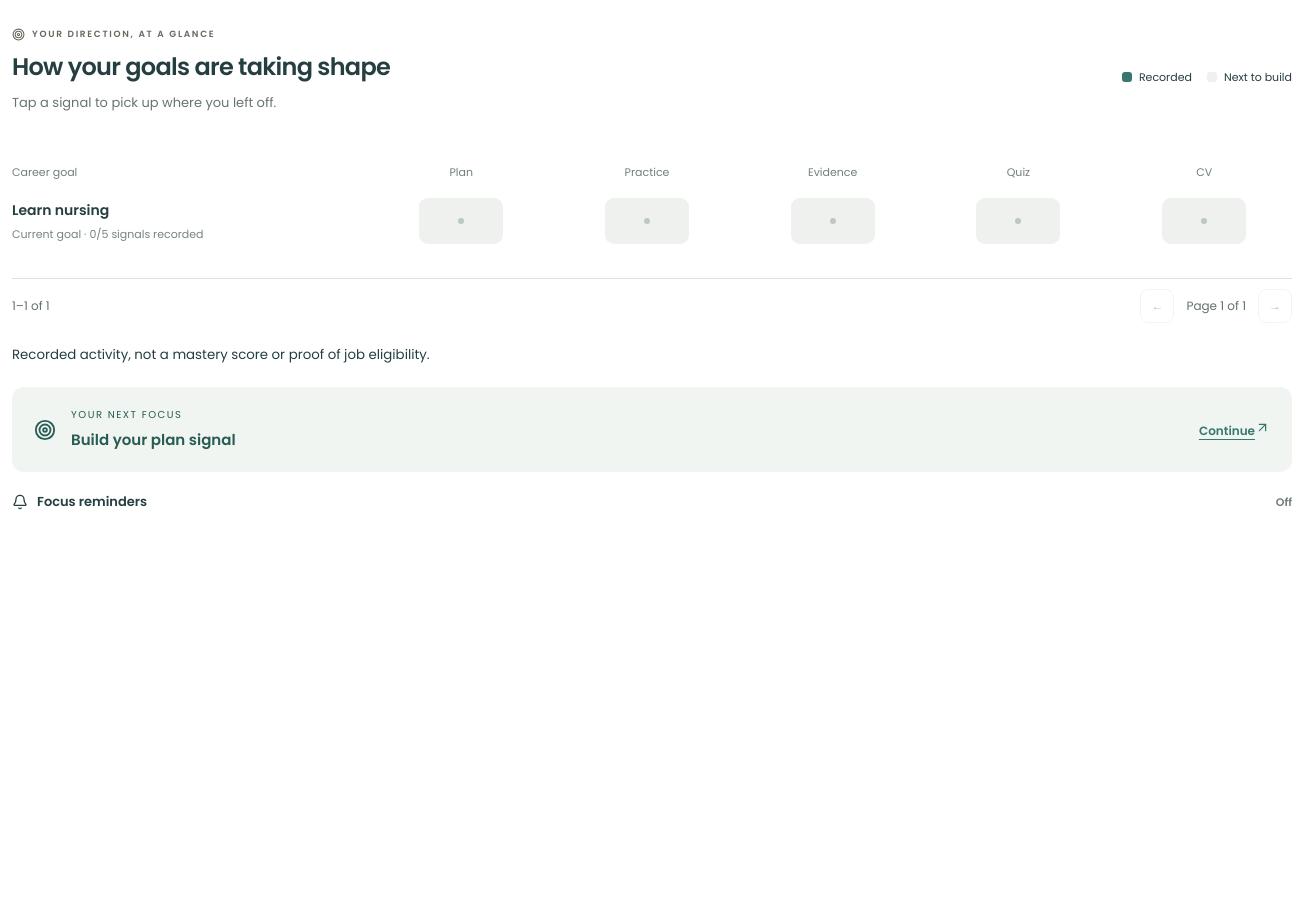
Test: heatmap switches the selected goal and saves reminder choices
Expected: the table named "Preparation signals by goal" is shown, 12,150 -> 1292,331
Click the button named "Learn nursing: Plan not yet recorded": x=461, y=221 419,198 -> 503,244
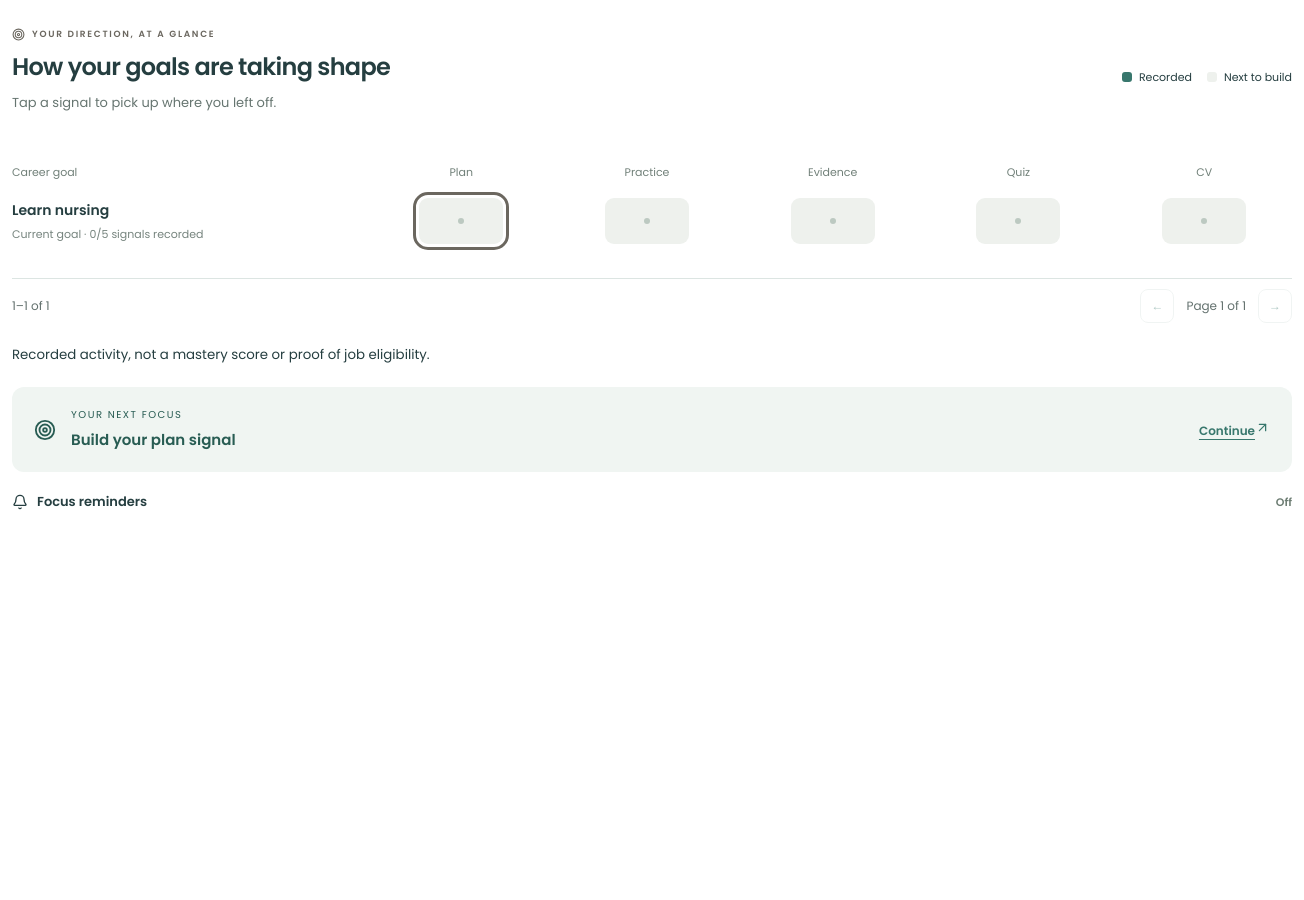
Click the heading "Focus reminders Off": x=92, y=502 12,492 -> 1292,512
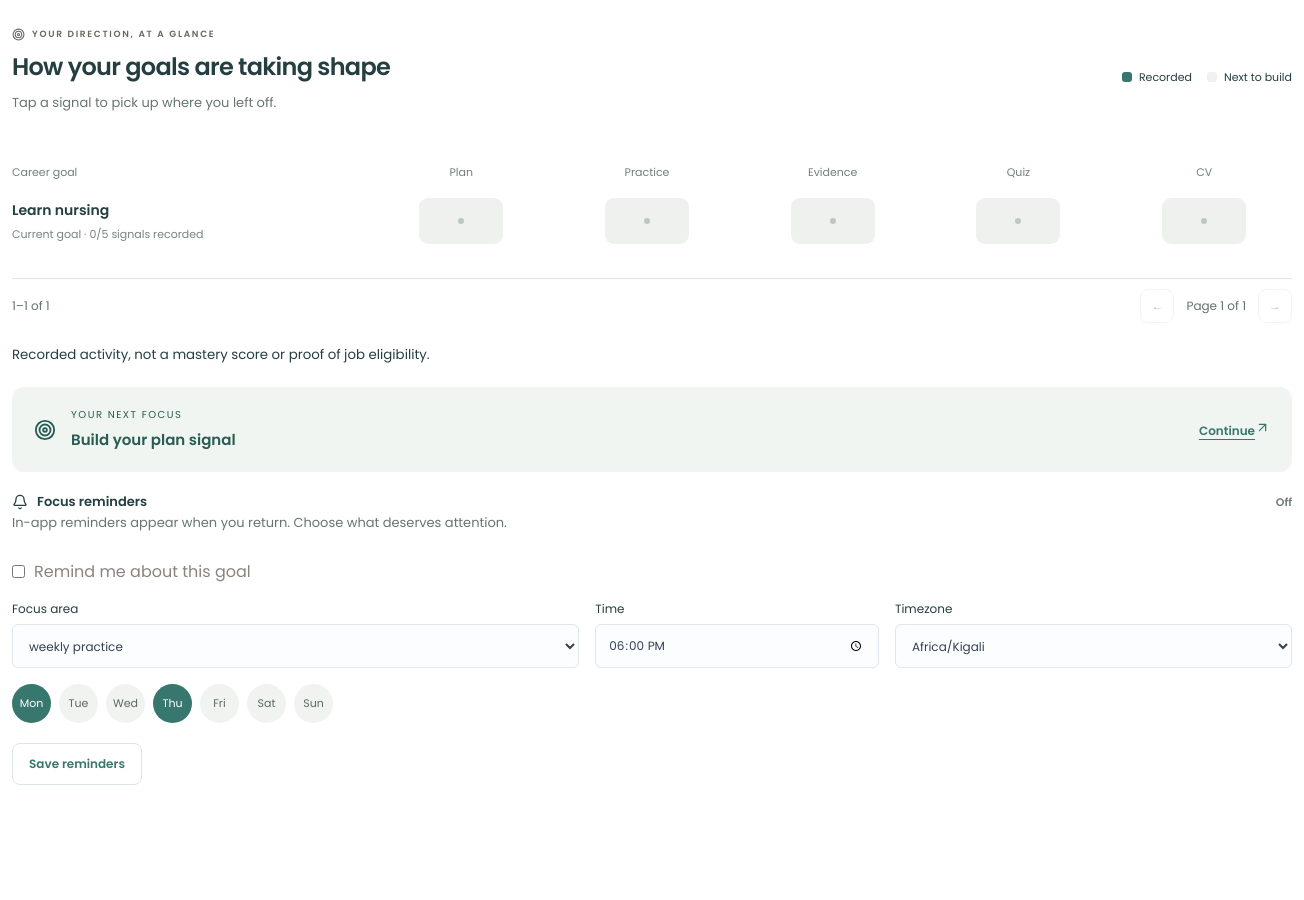
Click the checkbox labelled "Remind me about this goal": x=18, y=571 12,565 -> 25,578
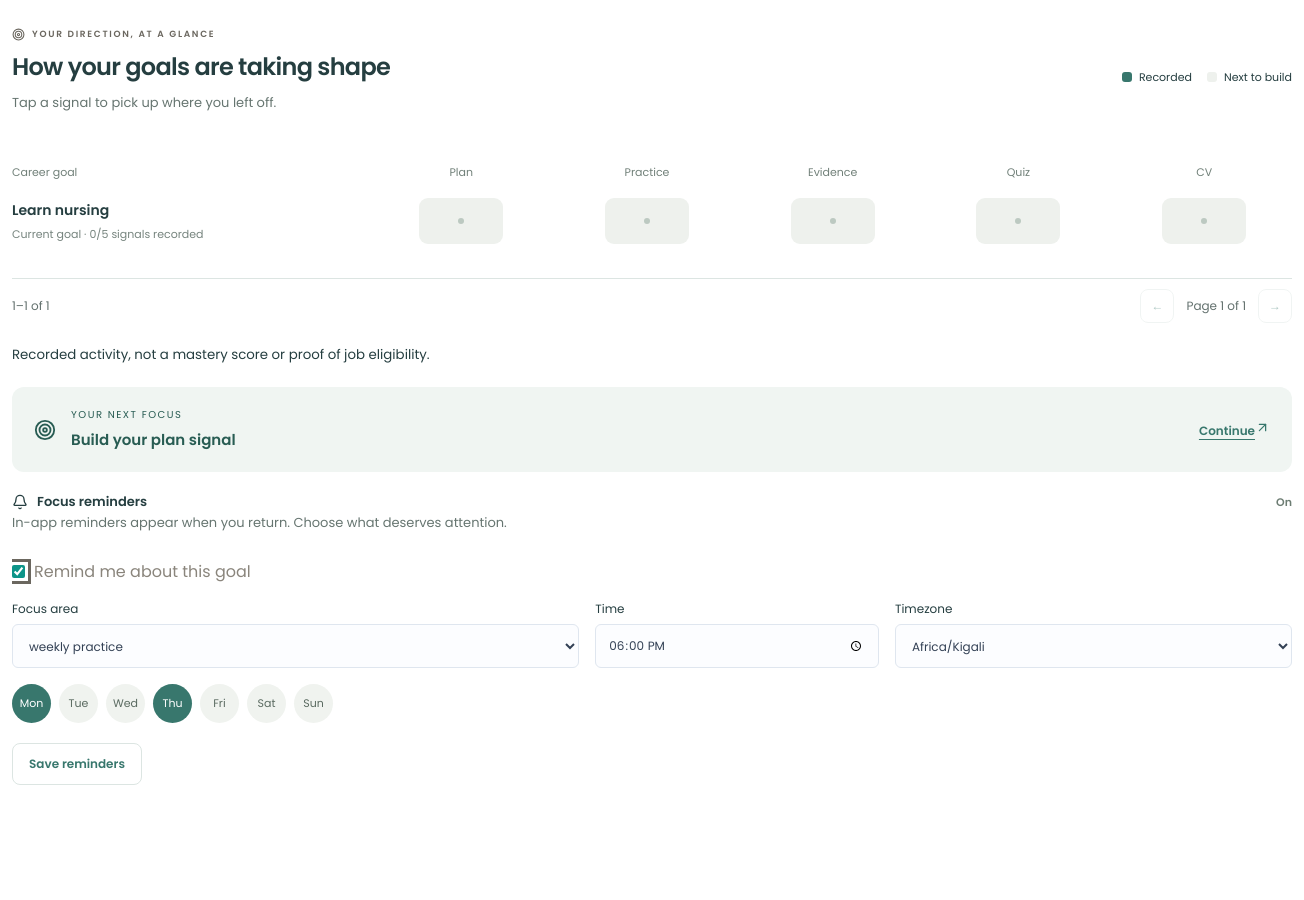
Select "practice quiz" in the dropdown labelled "Focus area": x=296, y=646 12,624 -> 579,668
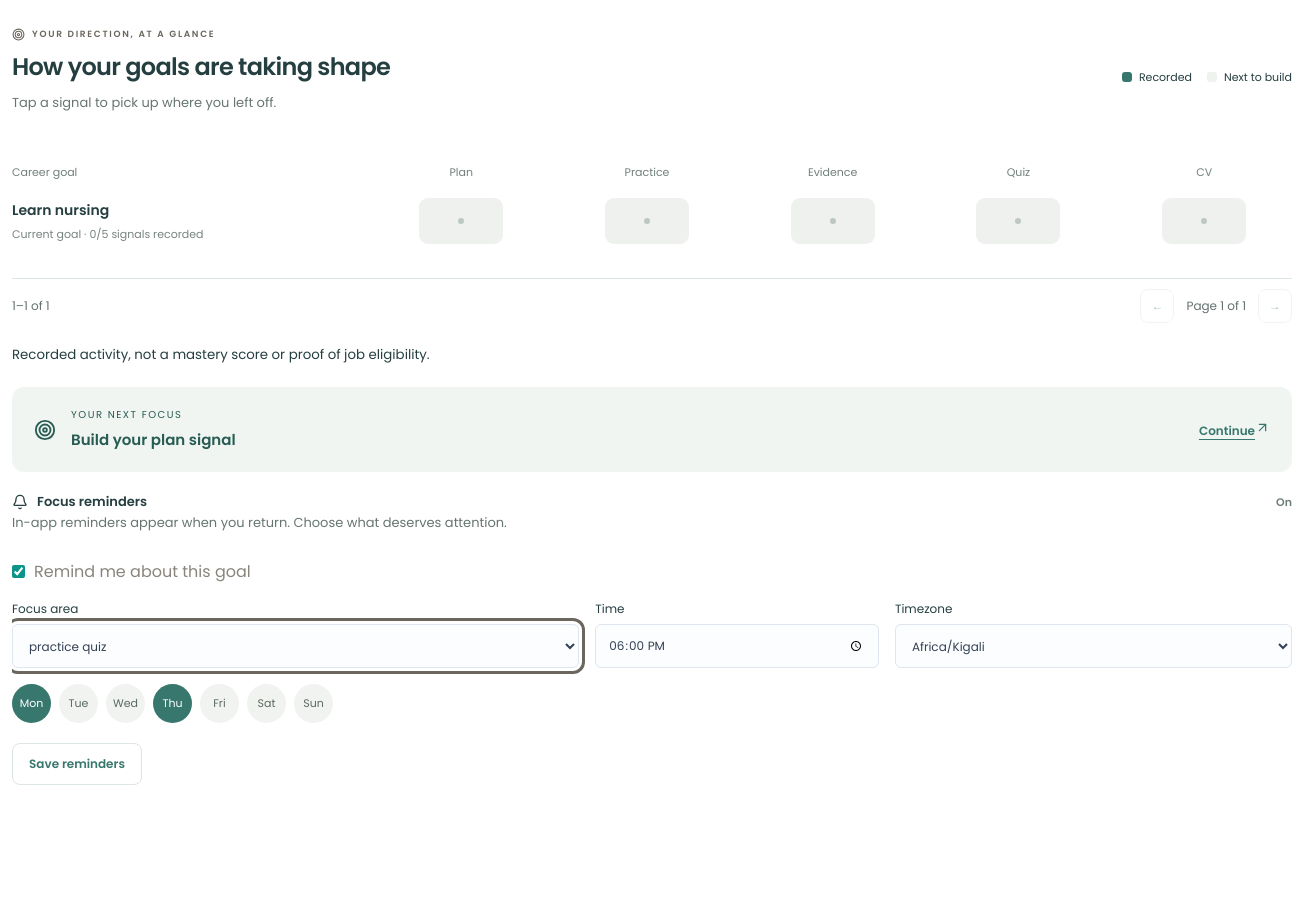
Click the button "Save reminders": x=77, y=764 12,743 -> 142,785
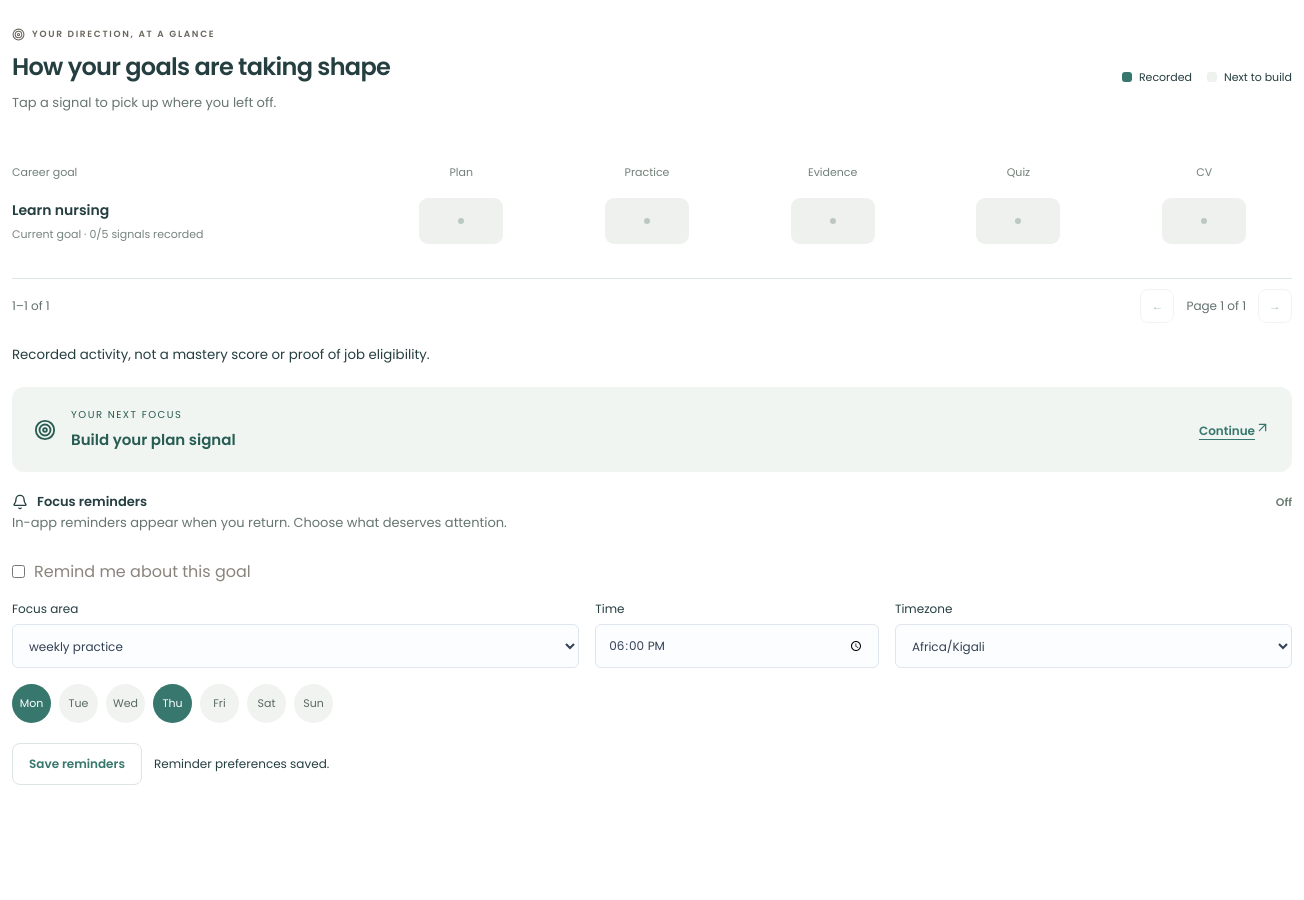
Expected: the text "Reminder preferences saved." is shown, 154,755 -> 329,772
